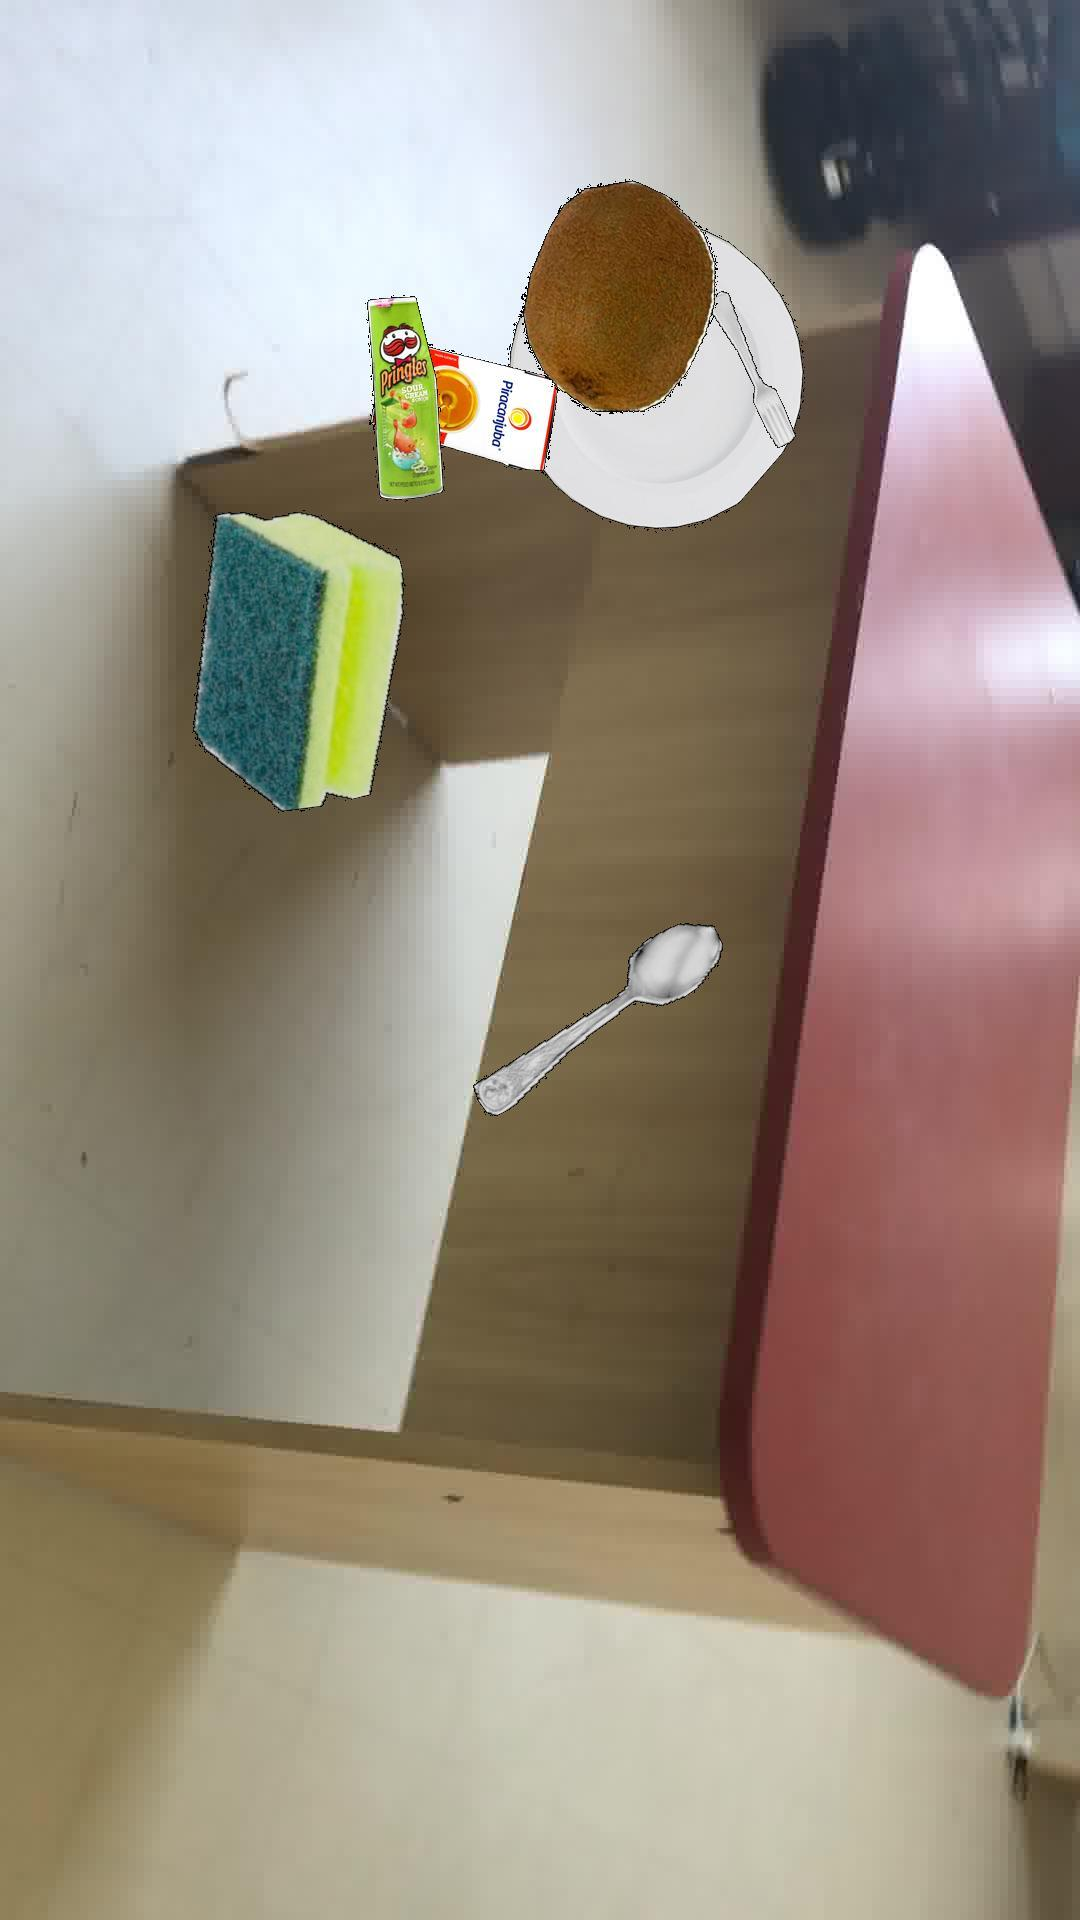fork: (711, 290, 794, 447)
kiwi: (517, 178, 716, 413)
plate: (506, 228, 803, 527)
pringles: (365, 294, 443, 498)
sponge: (191, 510, 402, 811)
spoon: (472, 922, 721, 1114)
